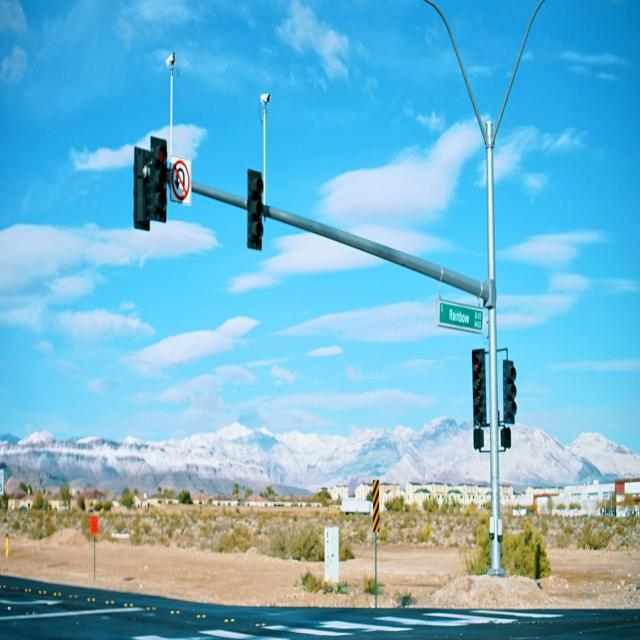suv: (150, 135, 168, 223), (246, 168, 264, 250), (133, 146, 150, 231), (472, 348, 486, 428), (503, 360, 517, 424)
